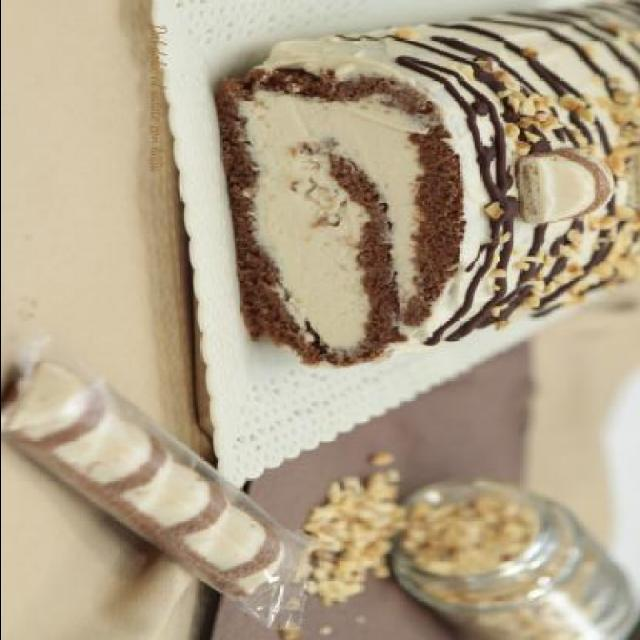Chocolate bar packaged: (0, 353, 291, 599), (517, 145, 617, 229)
